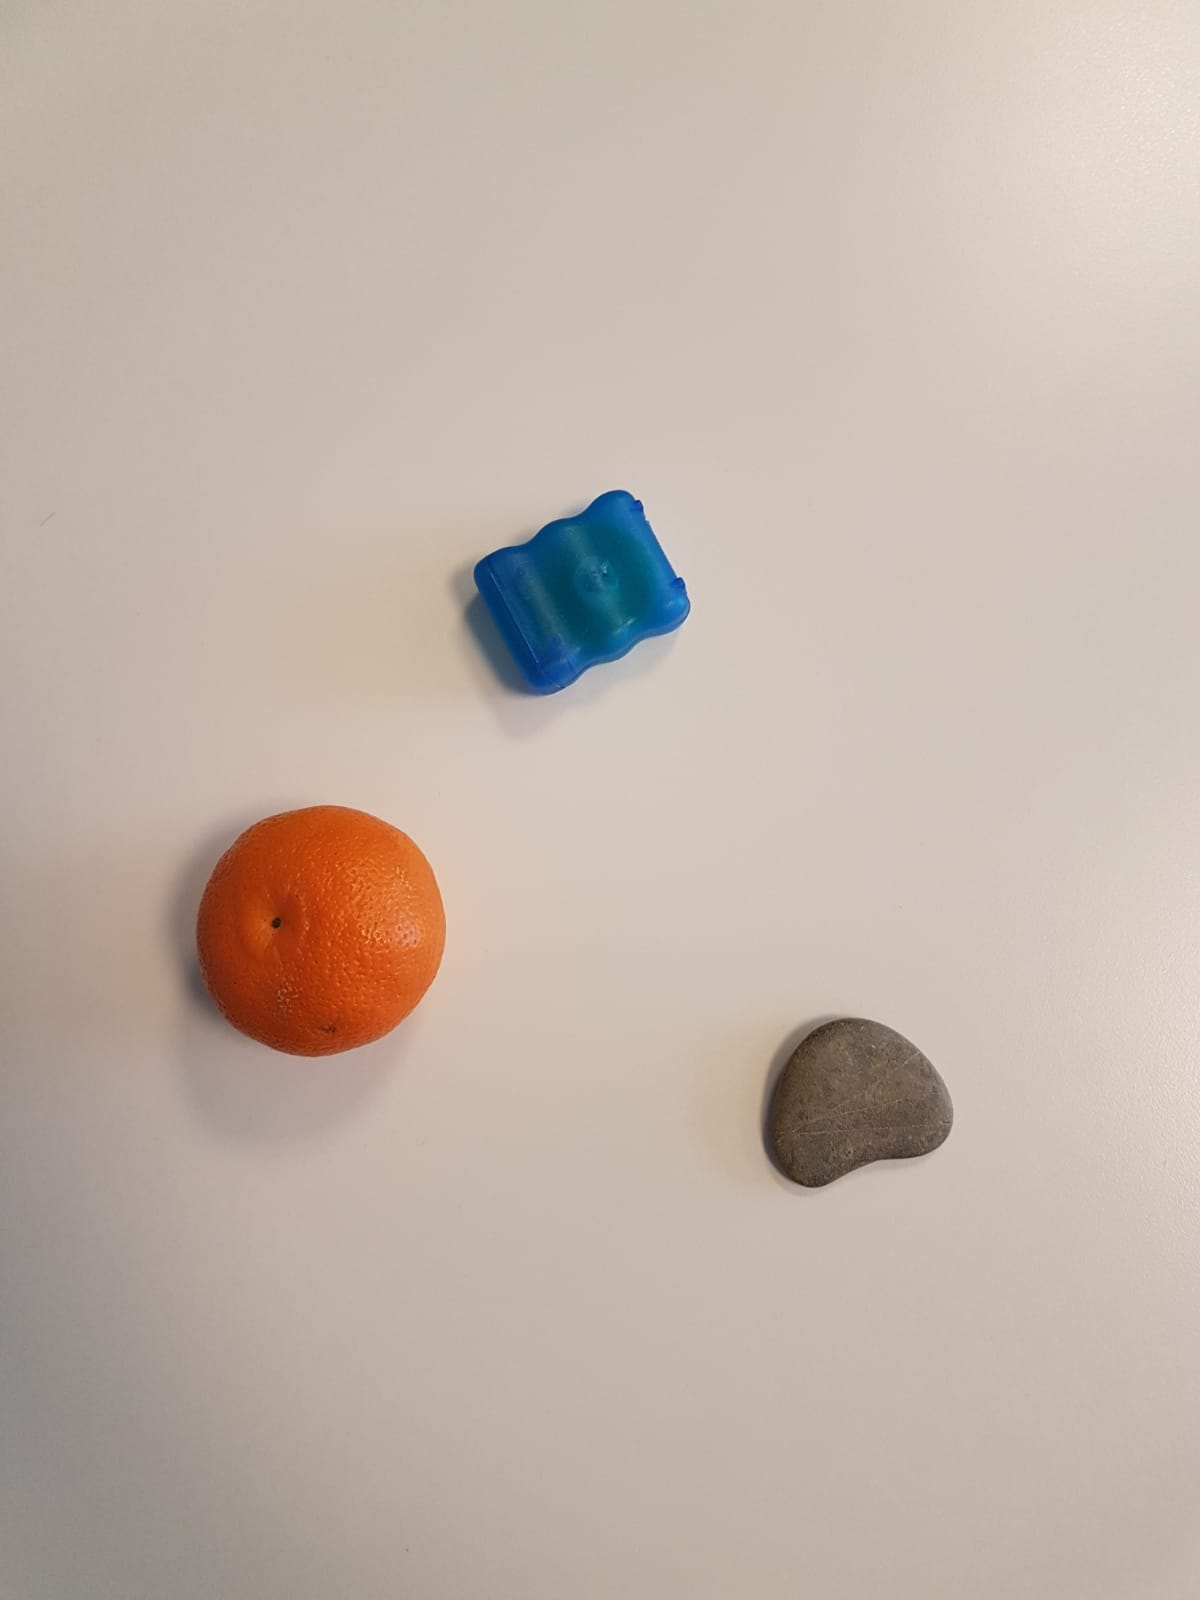Box: (464, 488, 696, 694)
Orange: (198, 805, 449, 1060)
Stone: (760, 1013, 958, 1191)
